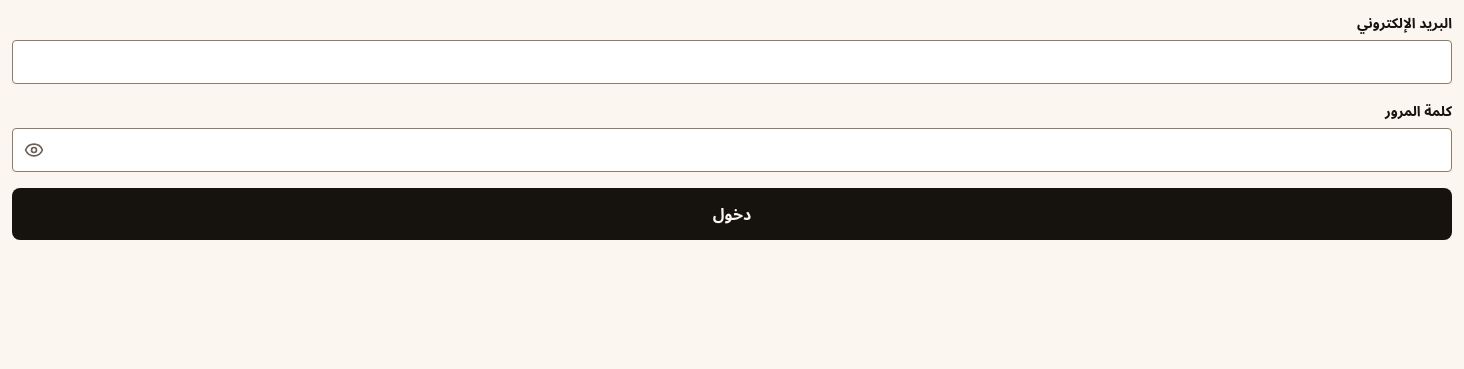
Test: StaffLoginForm (D31) › requires2fa: shows the code step with 'remember this device', then posts the code
This screenshot has width=1464, height=369.
Later steps or results of the test are not shown.
Type "owner@example.com" into the field labelled "البريد الإلكتروني" at (732, 62), box [12, 40, 1452, 84]
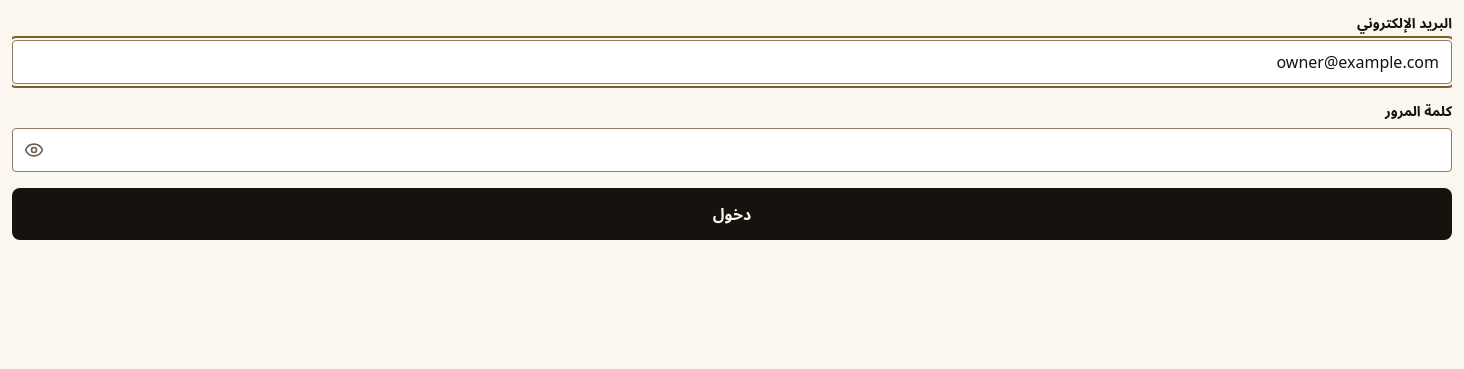
Type "secret-pass" into the password field labelled "كلمة المرور" at (732, 150), box [12, 128, 1452, 172]
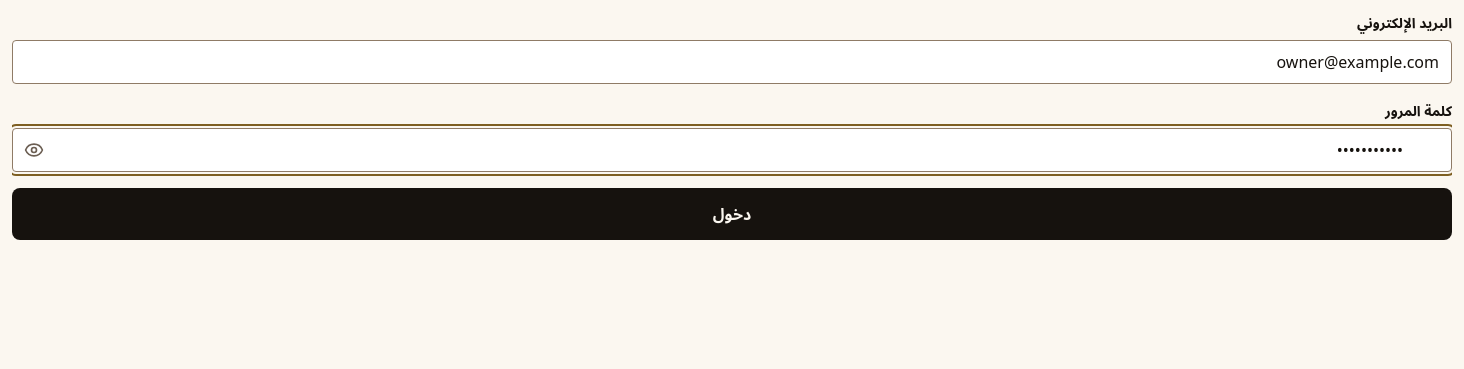
Click the button "دخول" at (732, 214), box [12, 188, 1452, 240]
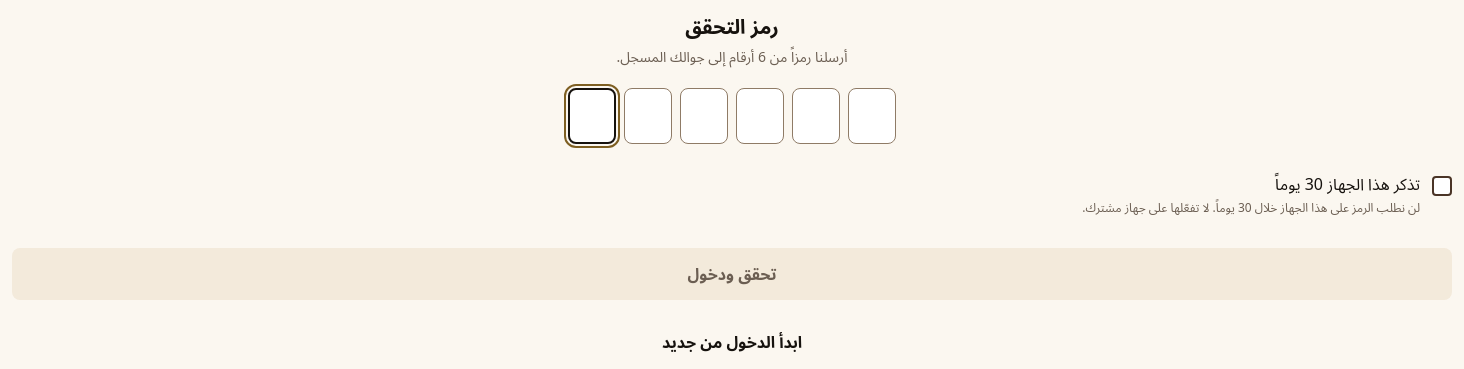
Expected: the heading "رمز التحقق" is shown, [685, 13, 779, 40]
